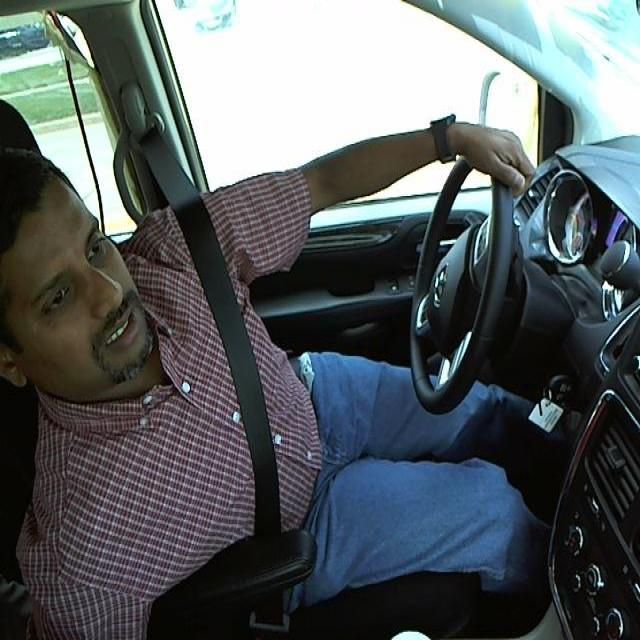seatbelt: (183, 209, 295, 544)
